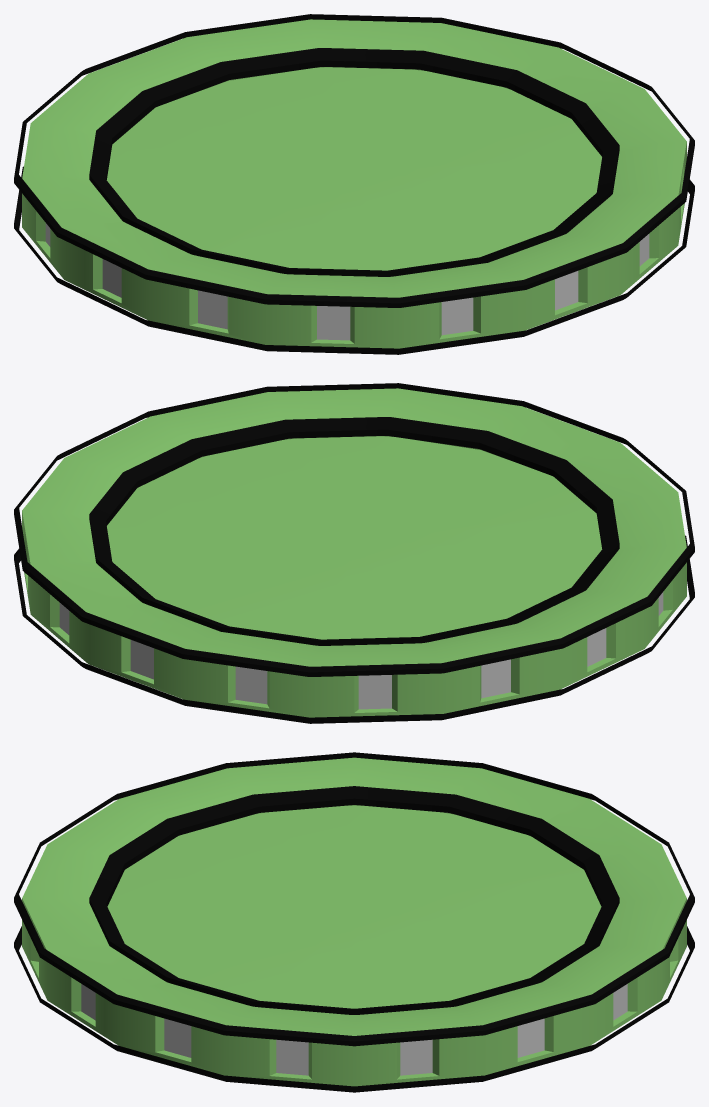
The model's file is Fighting (1) 3.fbx.
3 renders of one model, top to bottom at view 1: azimuth 30°, elevation 25°; view 2: azimuth 150°, elevation 25°; view 3: azimuth 270°, elevation 25°, orthographic.
Visible parts, largest first — view 1: Cylinder.010; view 2: Cylinder.010; view 3: Cylinder.010.
Part boxes in pixels (x1=…): Cylinder.010: x1=14, y1=14, x2=694, y2=354; Cylinder.010: x1=14, y1=383, x2=694, y2=723; Cylinder.010: x1=14, y1=752, x2=694, y2=1092.
Size of the model in its own units: 76.85 by 7.47 by 76.85.
